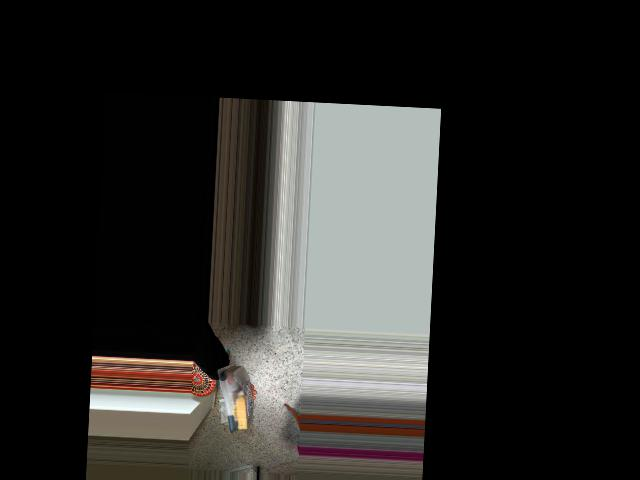cheese: (212, 365, 256, 433)
